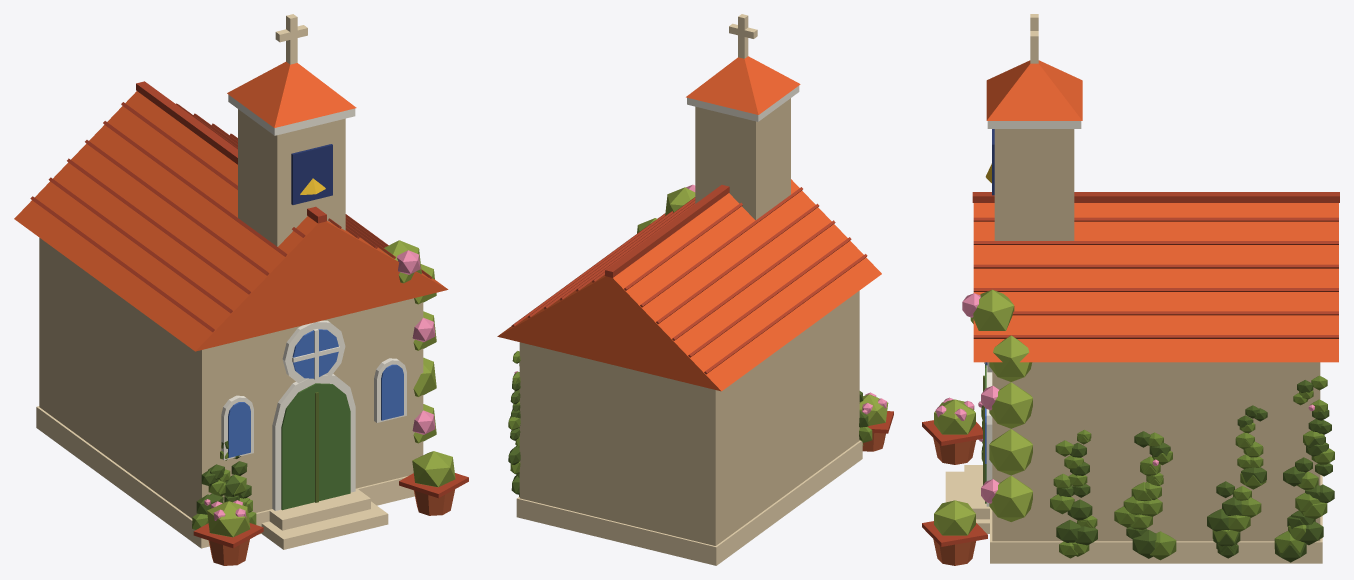
The model's file is chapel.glb.
3 views of the same model, side by side, from view 1: azimuth 30°, elevation 25°; view 2: azimuth 150°, elevation 25°; view 3: azimuth 270°, elevation 25° (orthographic). The views are drawn at different scales.
Visible parts, largest first — view 1: chapel; view 2: chapel; view 3: chapel.
Boxes of the visible parts, <box> form: chapel: <box>14,14,468,565</box>; chapel: <box>497,14,893,565</box>; chapel: <box>922,14,1339,565</box>.
Bounding box in the file's own units: 6.5 × 11.6 × 8.92.
